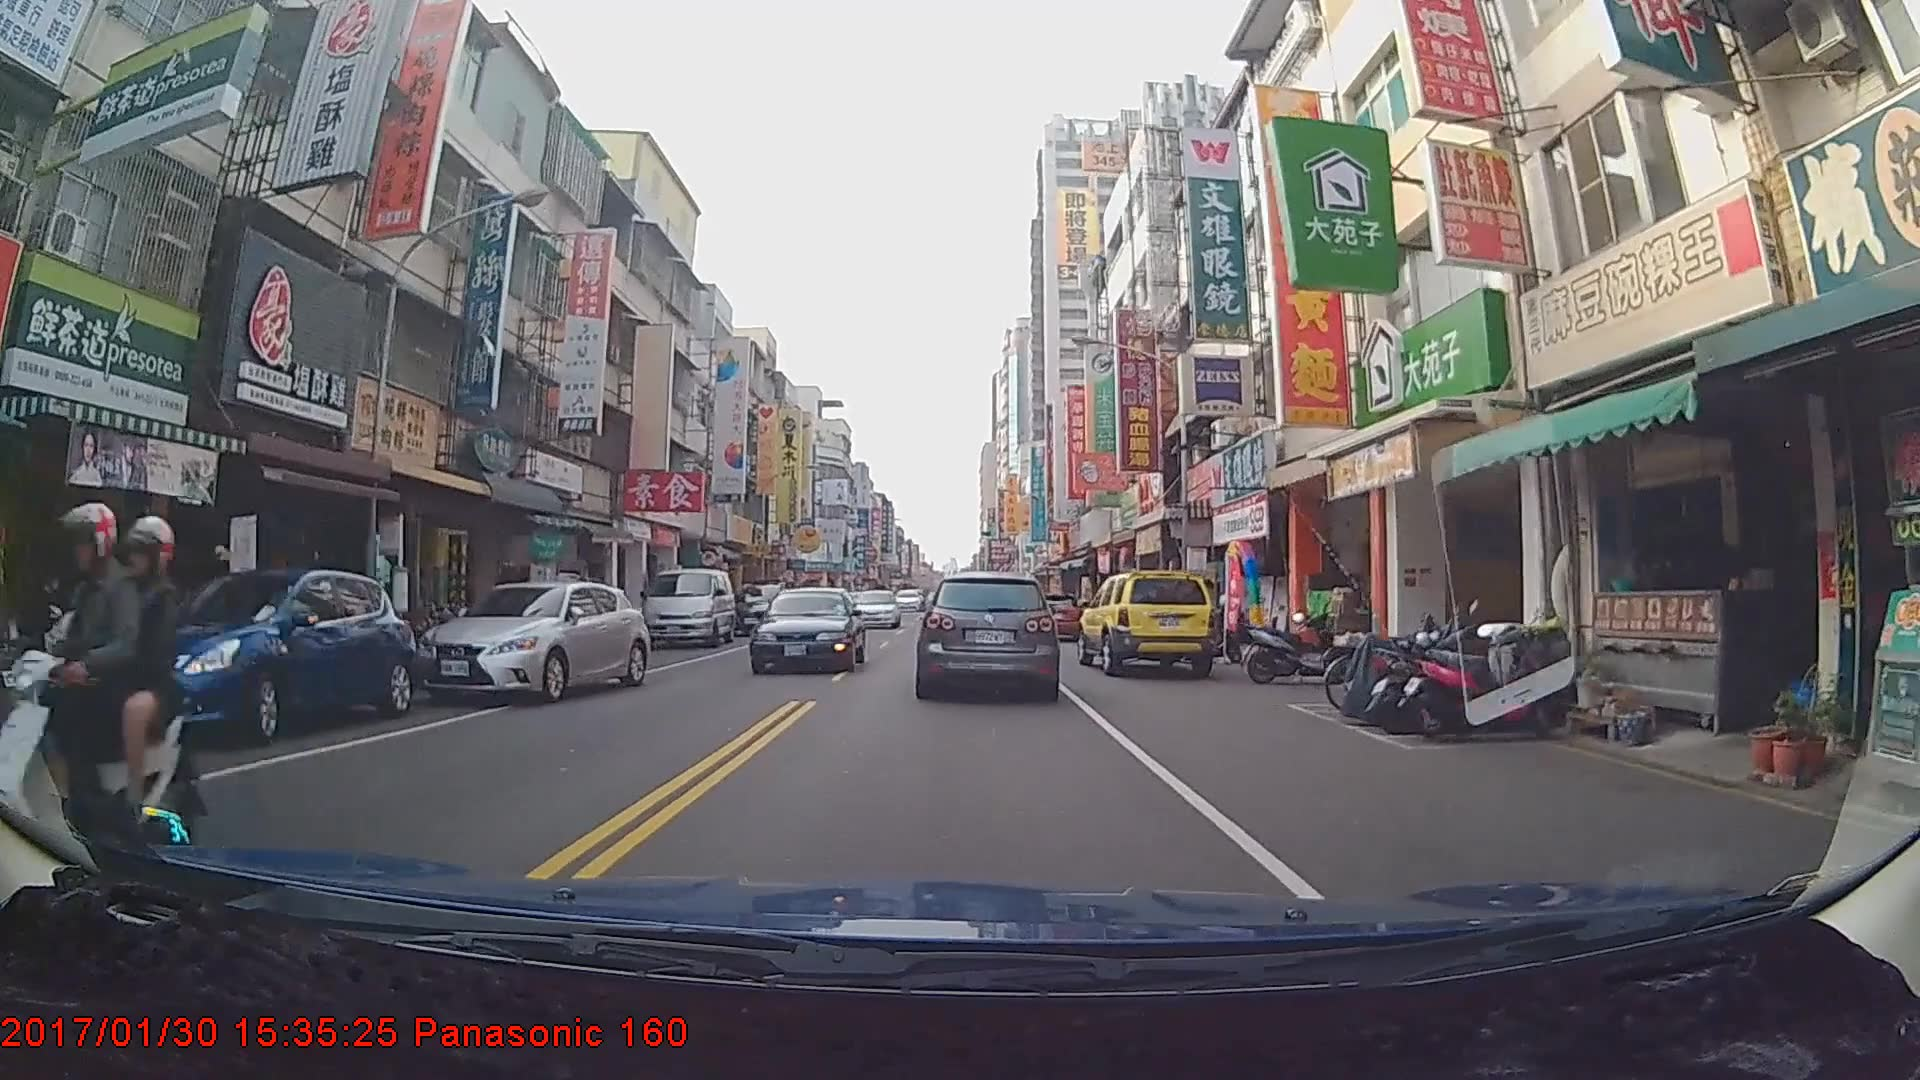rider: (1, 506, 205, 890)
vehicle: (107, 566, 417, 742), (410, 574, 651, 698), (915, 571, 1059, 700), (1079, 566, 1218, 676), (747, 586, 864, 674), (637, 566, 736, 646), (727, 581, 790, 634), (1019, 589, 1081, 640), (851, 589, 900, 629)
